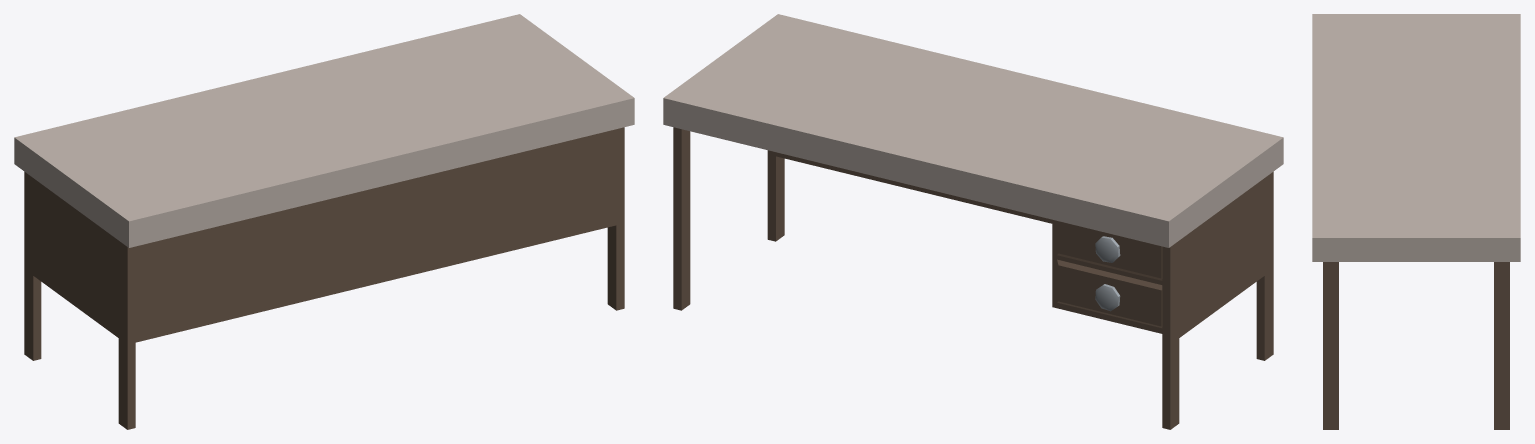
File: Deskv2.fbx
The picture shows the model from 3 angles, left to right: view 1: azimuth 30°, elevation 25°; view 2: azimuth 150°, elevation 25°; view 3: azimuth 270°, elevation 25°; orthographic projection. The views are drawn at different scales.
Visible parts, largest first — view 1: Desk_v2; view 2: Desk_v2; view 3: Desk_v2.
Boxes of the visible parts, x1,y1,x2,y2 form: Desk_v2: [14, 14, 634, 429]; Desk_v2: [663, 14, 1283, 429]; Desk_v2: [1312, 14, 1520, 429].
Bounding box in the file's own units: 92.25 × 37.28 × 36.28.
